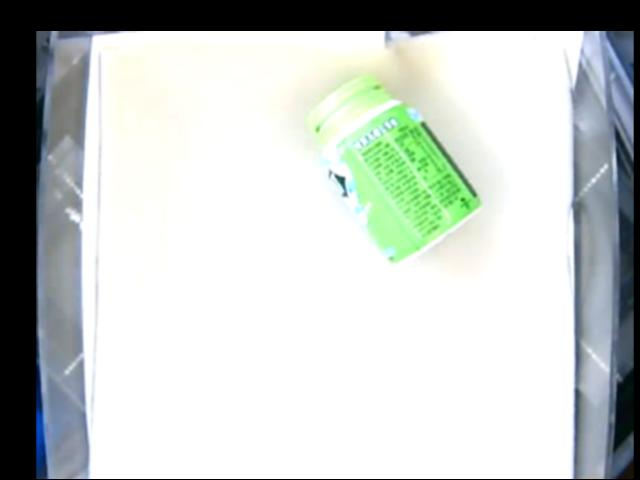Bottle: (304, 73, 485, 265)
